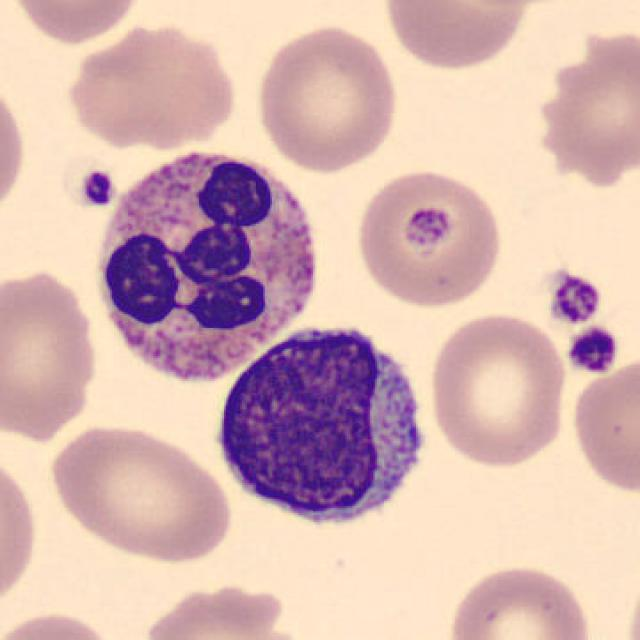Eosinophil: (81, 142, 325, 405)
Lymphocyte: (206, 312, 439, 536)
Platelets: (542, 268, 606, 328), (564, 323, 622, 377), (403, 199, 454, 255), (75, 164, 117, 212)
RBC: (42, 420, 236, 564), (250, 19, 402, 174), (62, 18, 240, 150), (425, 309, 571, 469), (350, 164, 507, 310), (0, 262, 101, 444), (535, 27, 640, 195), (442, 560, 597, 640), (378, 0, 540, 74), (567, 354, 640, 498), (139, 580, 295, 640), (0, 444, 43, 621), (5, 0, 150, 46), (0, 74, 30, 224), (0, 606, 126, 640)
